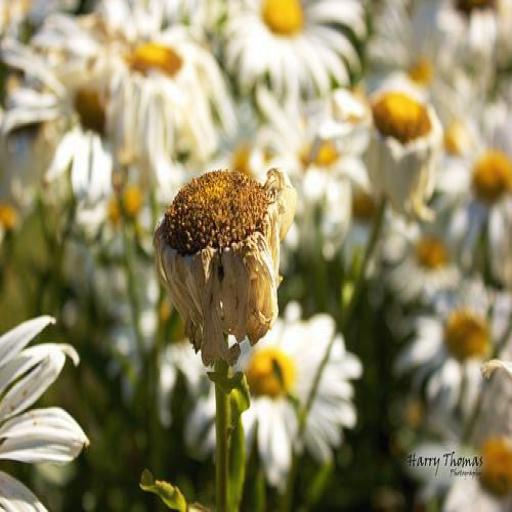daisy: (160, 175, 278, 351), (121, 38, 228, 140), (374, 88, 434, 154), (476, 143, 512, 214)
